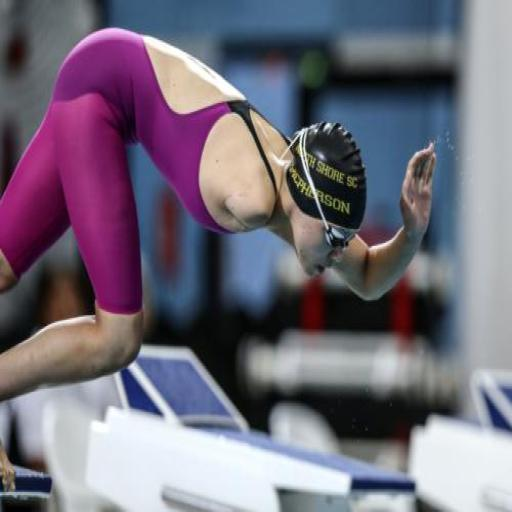swimming: (0, 23, 439, 496)
